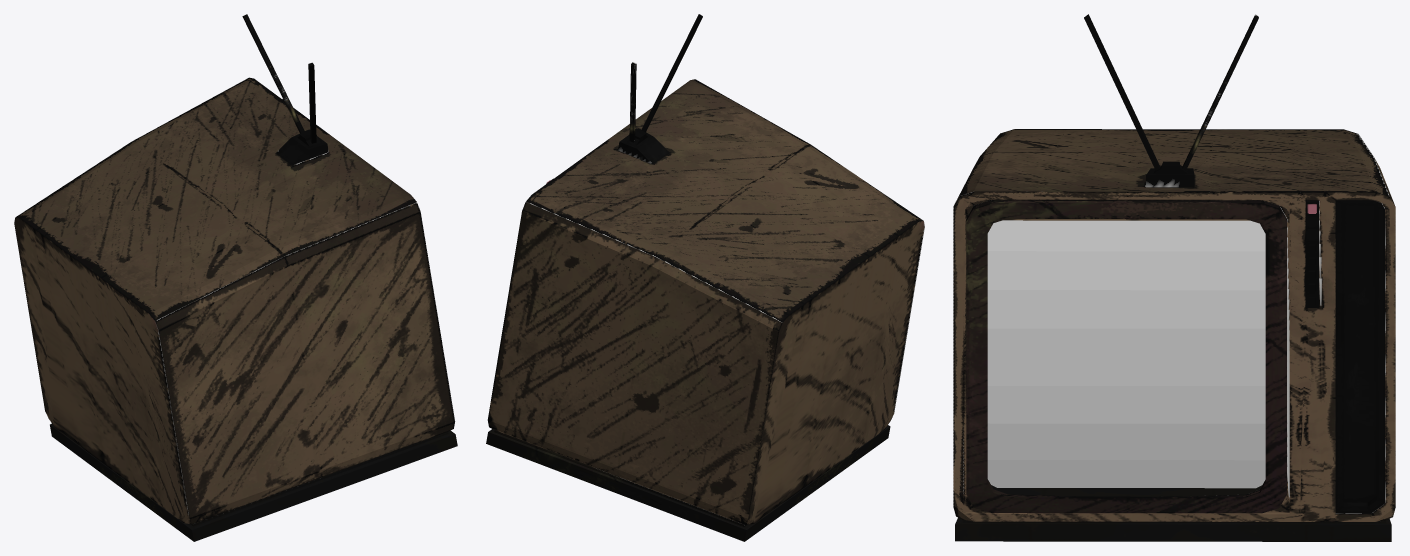
The picture shows the model from 3 angles, left to right: view 1: azimuth 30°, elevation 25°; view 2: azimuth 150°, elevation 25°; view 3: azimuth 270°, elevation 25°; orthographic projection. The views are drawn at different scales.
Visible parts, largest first — view 1: TV-4; view 2: TV-4; view 3: TV-4, TV-4-Screen.
Boxes of the visible parts, x1,y1,x2,y2 form: TV-4: (14, 14, 457, 541); TV-4: (486, 14, 924, 541); TV-4: (953, 14, 1395, 541); TV-4-Screen: (987, 220, 1265, 488).
Size of the model in its own units: 11.63 by 16.06 by 12.19.
Materials: 1 (1 with a texture image).
